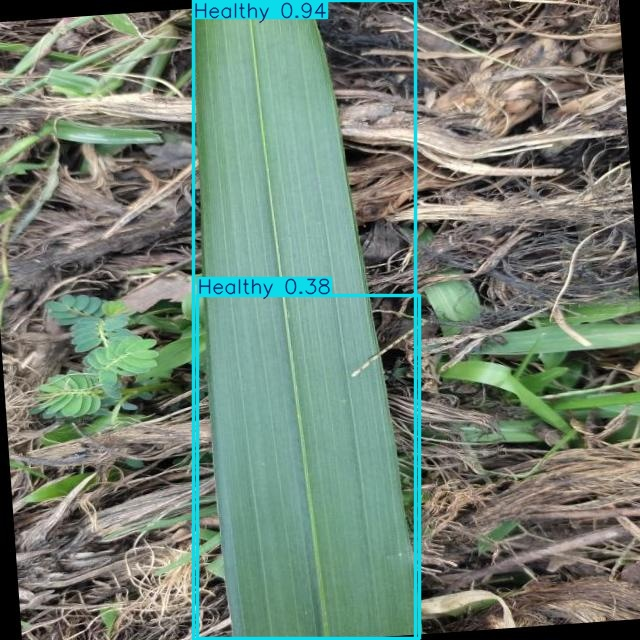Healthy: (193, 0, 415, 640), (197, 296, 420, 638)
